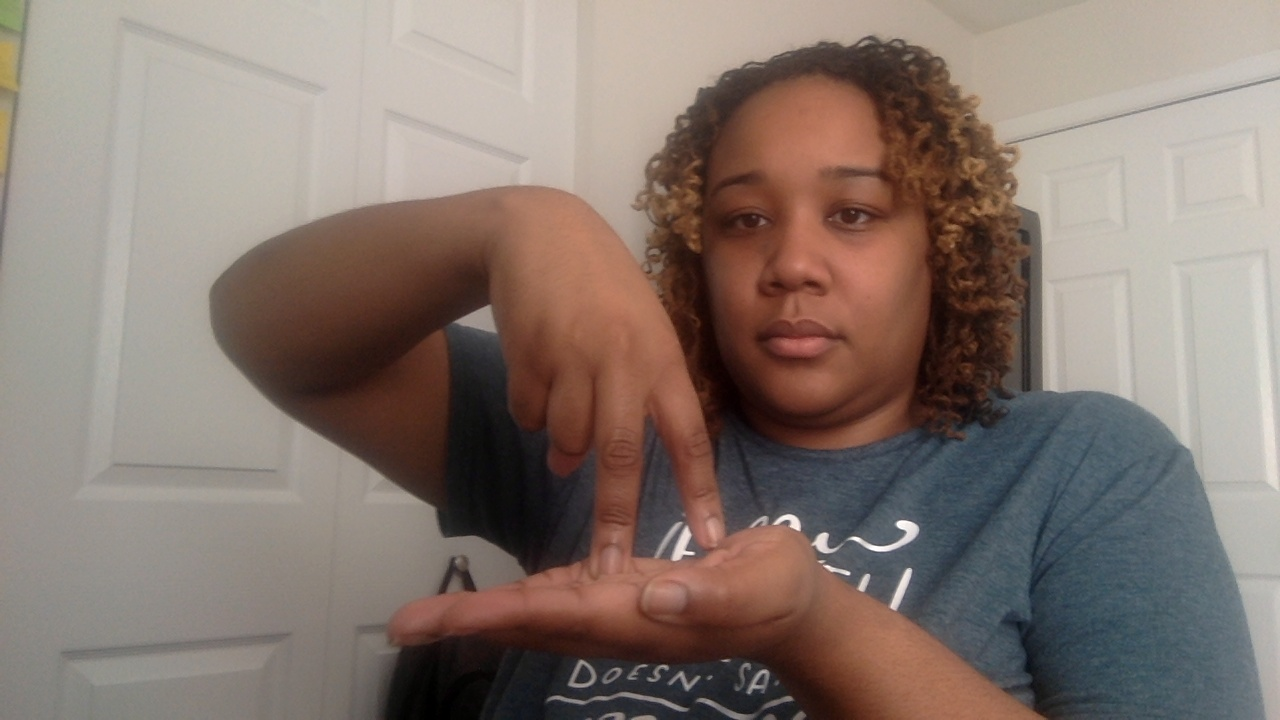fork: (229, 38, 1032, 661)
